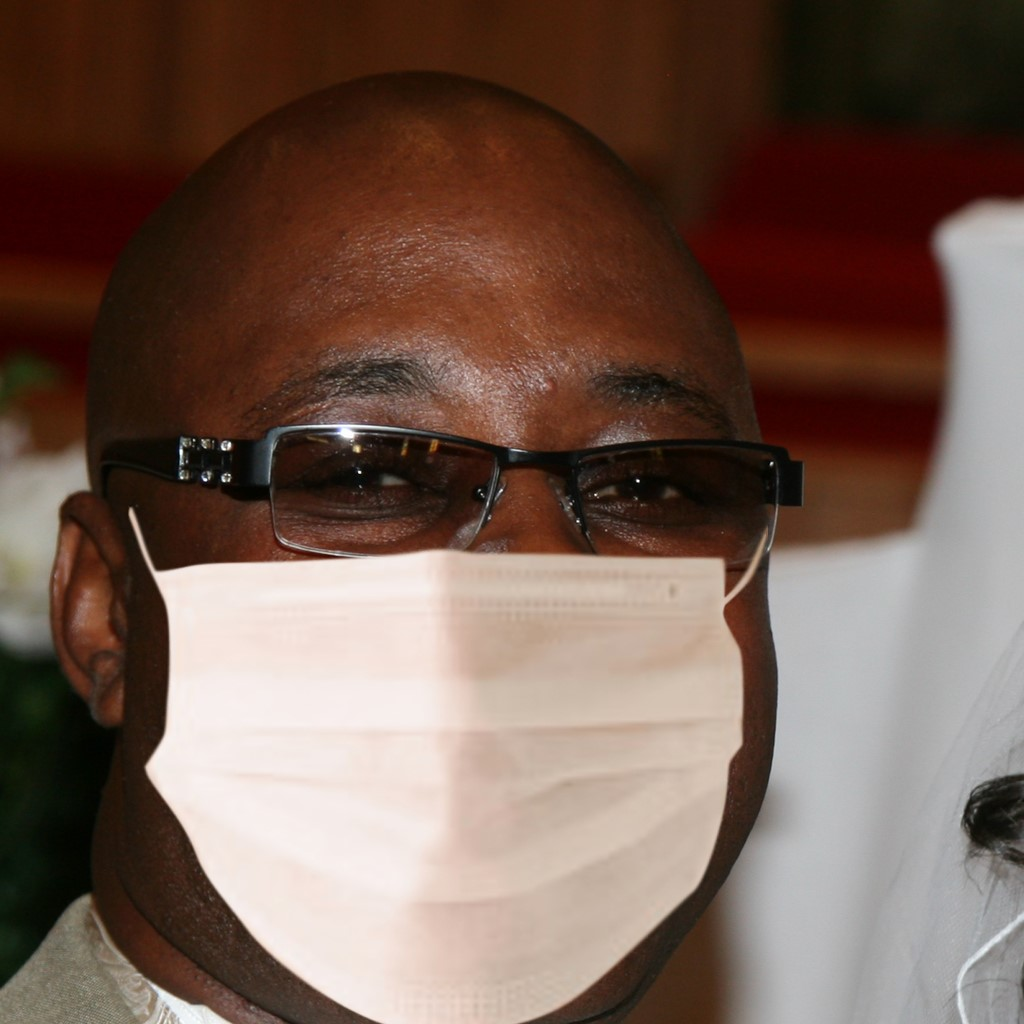con_mascara: (128, 132, 775, 1023)
